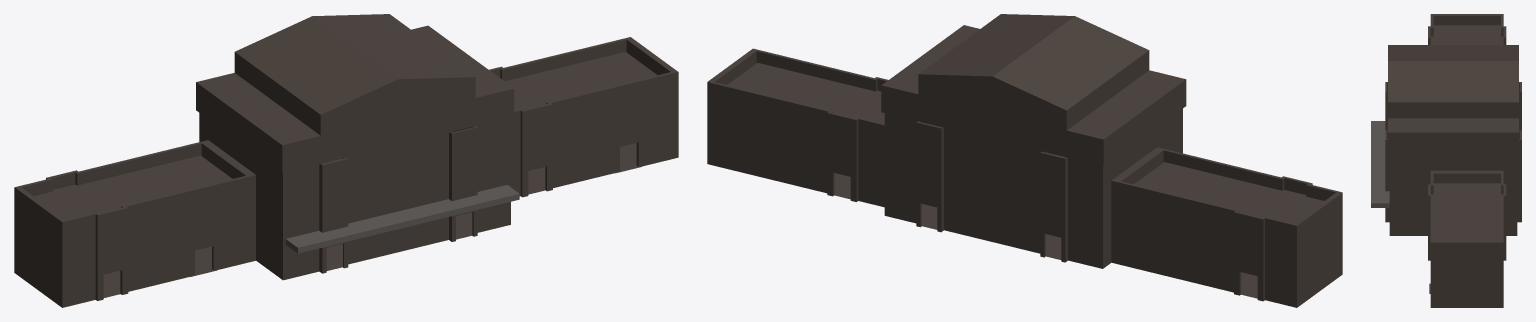
The model's file is SM_Bldg_City_General_01_Collider.fbx.
3 renders of one model, left to right at view 1: azimuth 30°, elevation 25°; view 2: azimuth 150°, elevation 25°; view 3: azimuth 270°, elevation 25°, orthographic. The views are drawn at different scales.
Visible parts, largest first — view 1: SM_Bldg_City_General_01_Collider; view 2: SM_Bldg_City_General_01_Collider; view 3: SM_Bldg_City_General_01_Collider.
Boxes of the visible parts, x1,y1,x2,y2 form: SM_Bldg_City_General_01_Collider: (14,14,678,307); SM_Bldg_City_General_01_Collider: (707,14,1342,307); SM_Bldg_City_General_01_Collider: (1371,14,1521,307).
Size of the model in its own units: 5945 by 1606 by 1655.
